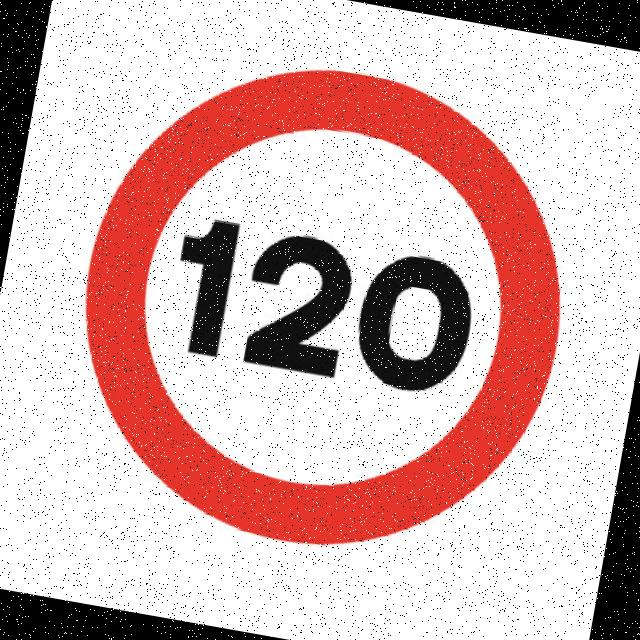speed_limit_120: (44, 29, 594, 582)
